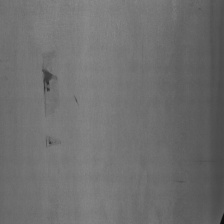rolled_pit: (37, 56, 67, 155)
